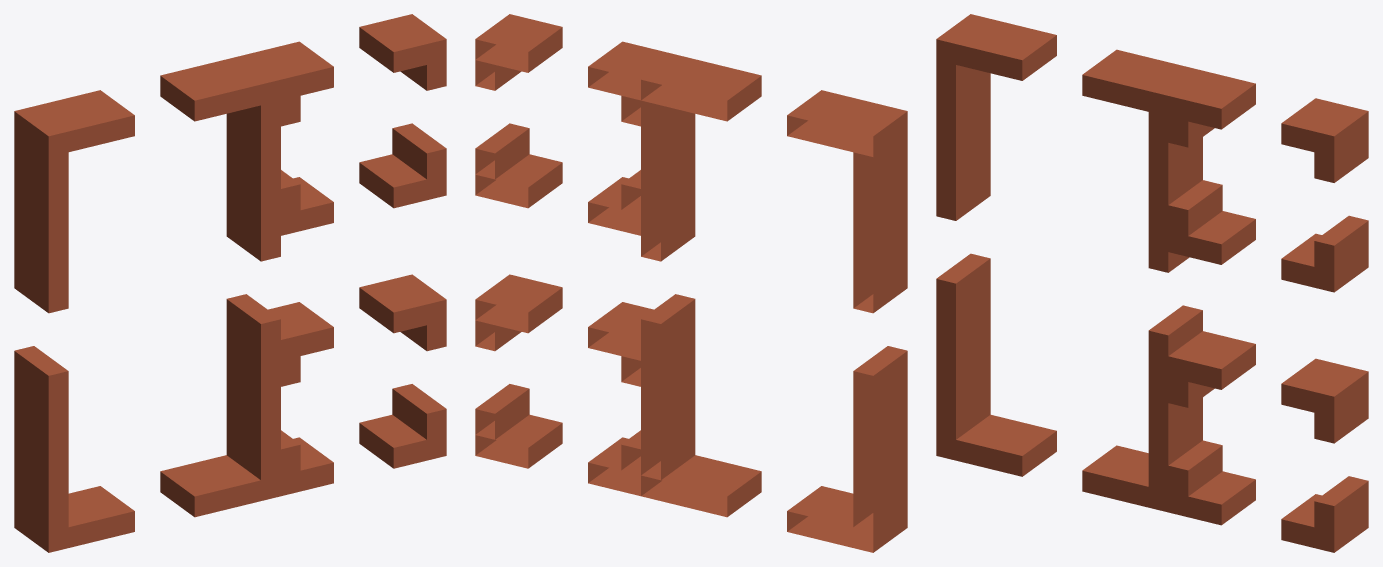
The model's file is construction_0.glb.
3 renders of one model, left to right at view 1: azimuth 30°, elevation 25°; view 2: azimuth 150°, elevation 25°; view 3: azimuth 330°, elevation 25°, orthographic.
Parts seen in each view (by area): view 1: c0; view 2: c0; view 3: c0.
Part boxes in pixels (x1,y1,x2,y2): c0: (14, 14, 446, 552); c0: (475, 14, 907, 552); c0: (936, 14, 1368, 552).
Size of the model in its own units: 12 by 12 by 1.8.
